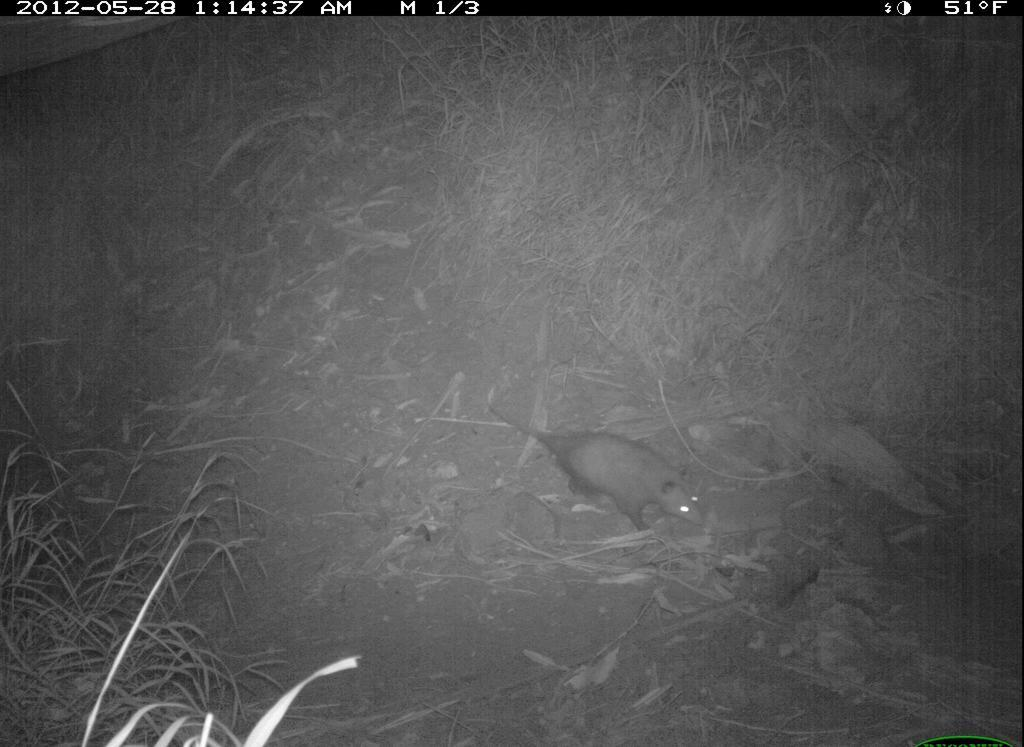opossum: (487, 396, 720, 541)
